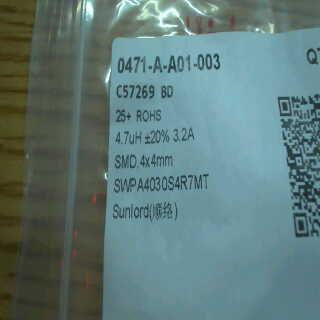4.7uH: (110, 128, 143, 145)
